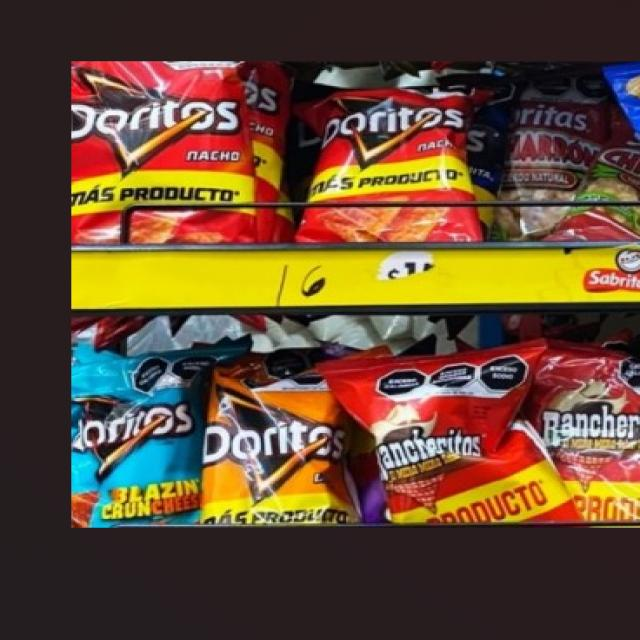doritosNacho: (88, 66, 264, 237), (312, 94, 461, 244)
rancheritos: (366, 372, 510, 525), (527, 361, 632, 508)
